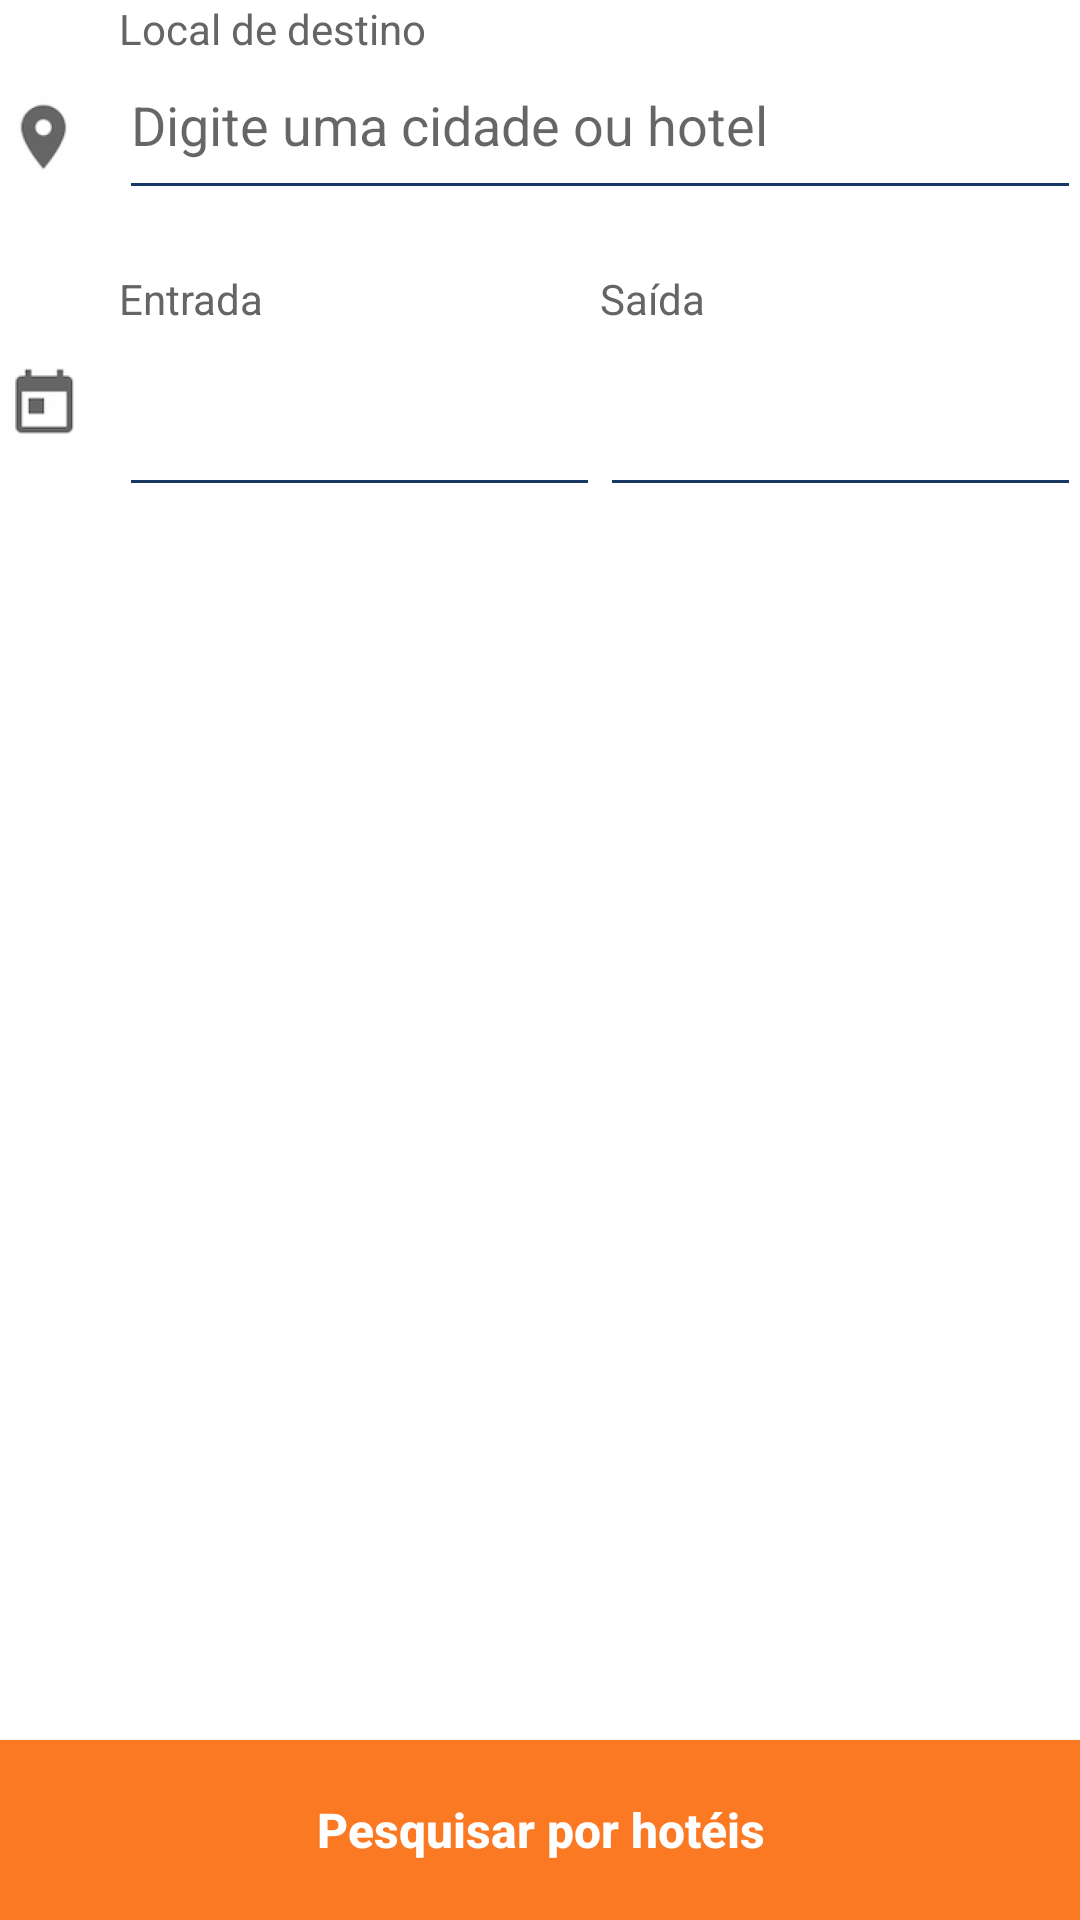

Where icons sit on this 1080 x 1920 app screen, as (left=x1, top=y1, right=x2, bottom=y2):
calendar: (left=15, top=369, right=74, bottom=434)
place: (left=20, top=104, right=66, bottom=169)
